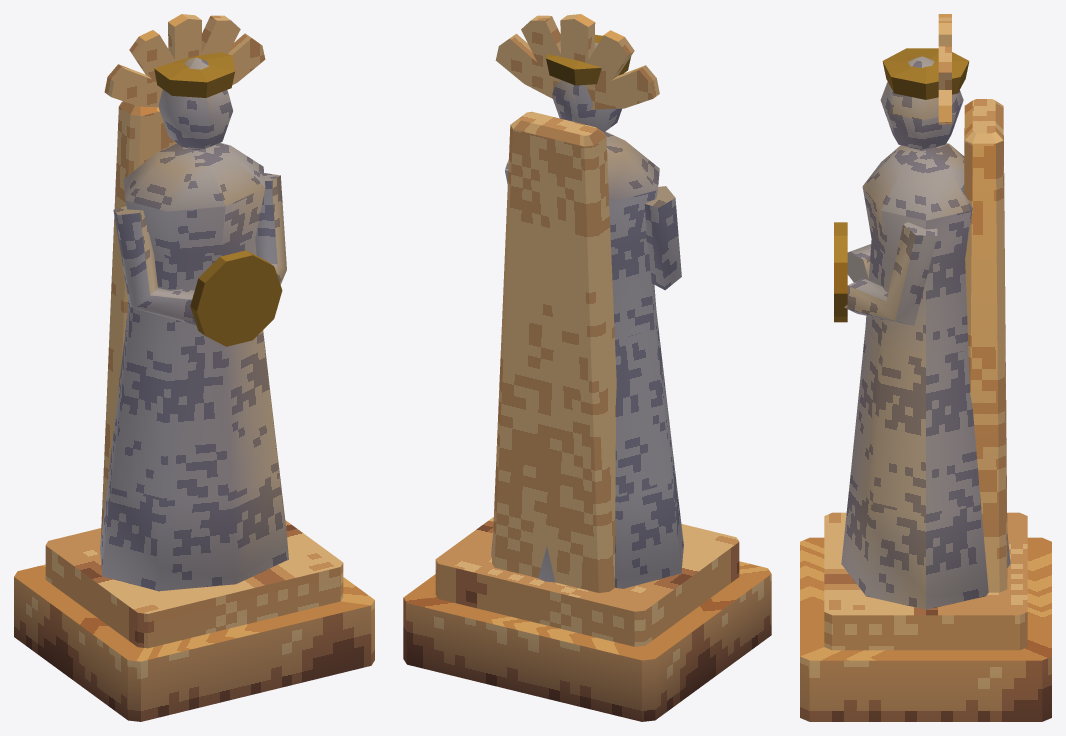
File: relic.statue.glb
3 renders of one model, left to right at view 1: azimuth 30°, elevation 25°; view 2: azimuth 150°, elevation 25°; view 3: azimuth 270°, elevation 25°, orthographic. The views are drawn at different scales.
Parts seen in each view (by area): view 1: kit_robe, kit_plinth, kit_arms, kit_crown, kit_disc, kit_back_pillar, kit_head, kit_band; view 2: kit_back_pillar, kit_plinth, kit_robe, kit_crown, kit_arms, kit_head, kit_band; view 3: kit_robe, kit_plinth, kit_back_pillar, kit_arms, kit_head, kit_band, kit_crown, kit_disc.
Part boxes in pixels (x1,y1,x2,y2): kit_robe: (100,142,288,591); kit_plinth: (14,520,374,721); kit_arms: (113,173,286,324); kit_crown: (104,14,265,107); kit_disc: (190,250,282,346); kit_back_pillar: (100,101,176,540); kit_head: (158,57,232,150); kit_band: (154,52,234,97); kit_back_pillar: (492,111,616,592); kit_plinth: (403,517,771,721); kit_robe: (491,131,683,588); kit_crown: (495,14,659,109); kit_arms: (505,159,681,290); kit_head: (552,42,621,132); kit_band: (546,34,631,85); kit_robe: (841,143,1010,609); kit_plinth: (800,512,1051,721); kit_back_pillar: (964,99,1007,592); kit_arms: (844,222,937,325); kit_head: (880,56,963,150); kit_band: (882,48,969,99); kit_crown: (938,14,951,124); kit_disc: (834,222,847,322).
Size of the model in its own units: 1.5 by 3.63 by 1.3.
4 materials, 3 textured.
